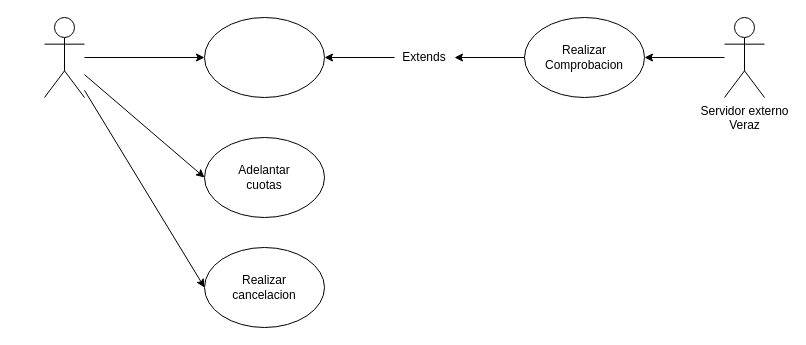
Some shapes in this 806 by 345 pixel diagram are drawn without their labels. Each missing label, with the centre of its shape:
"Cliente registrado" belongs at [64,57].
"Solicitar prestamo" belongs at [264,57].
